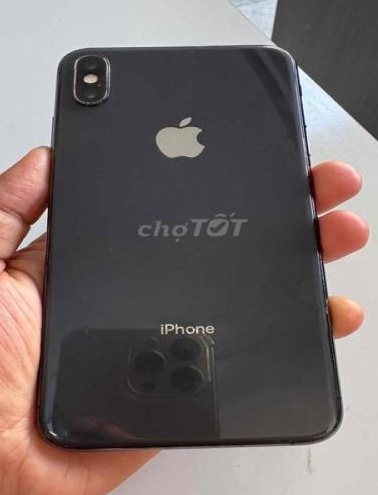scratch: (105, 61, 119, 98), (55, 54, 72, 68)
